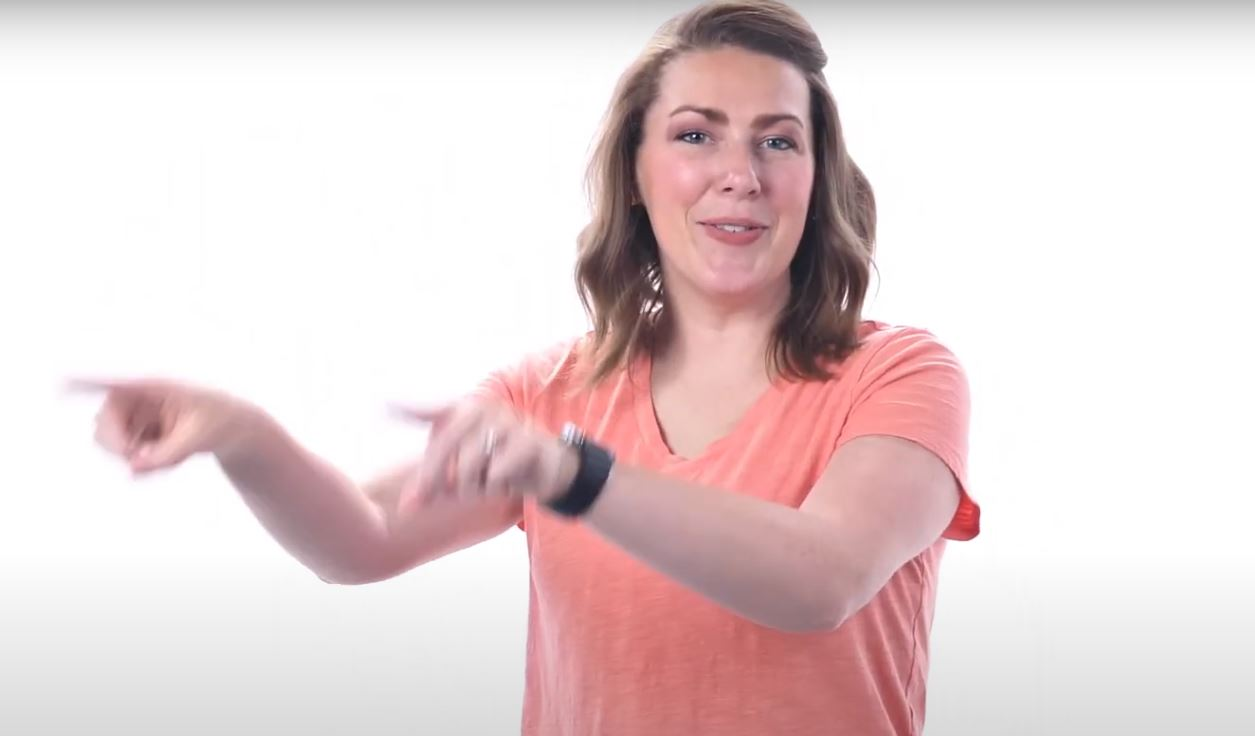go: (59, 364, 616, 591)
